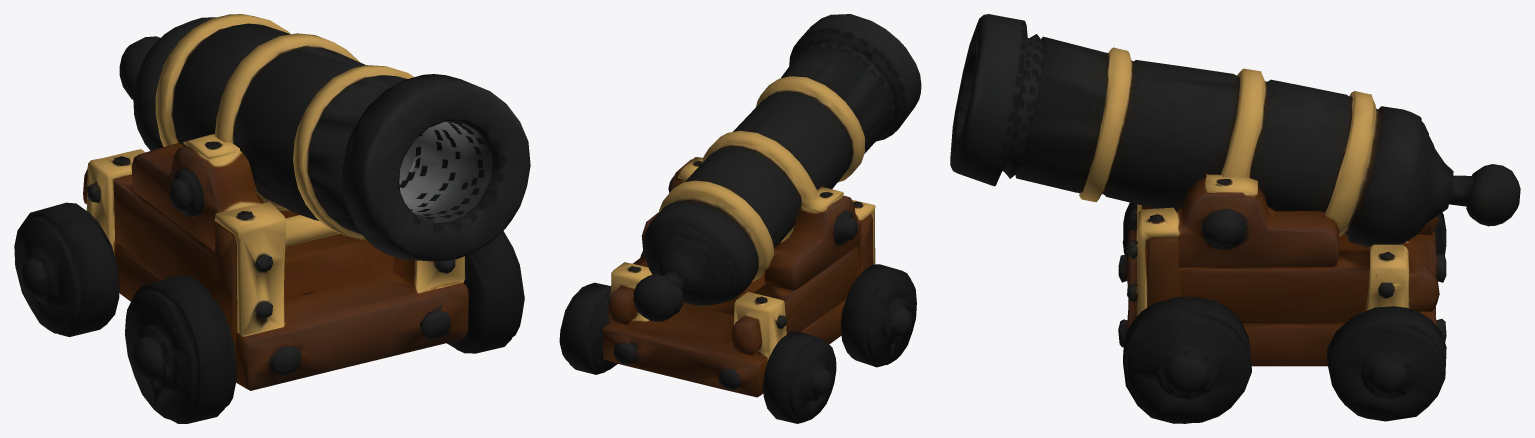
File: cannon.glb
The picture shows the model from 3 angles, left to right: view 1: azimuth 30°, elevation 25°; view 2: azimuth 150°, elevation 25°; view 3: azimuth 270°, elevation 25°; orthographic projection. The views are drawn at different scales.
Visible parts, largest first — view 1: carriage, barrel; view 2: carriage, barrel; view 3: barrel, carriage.
Part boxes in pixels (left/top/right/bottom): carriage: left=14, top=134, right=524, bottom=423; barrel: left=119, top=14, right=530, bottom=261; carriage: left=559, top=157, right=916, bottom=423; barrel: left=633, top=14, right=921, bottom=321; barrel: left=950, top=14, right=1520, bottom=246; carriage: left=1118, top=174, right=1446, bottom=423.
Bounding box in the file's own units: 2.29 × 2.2 × 3.4.
2 materials, 2 textured.
